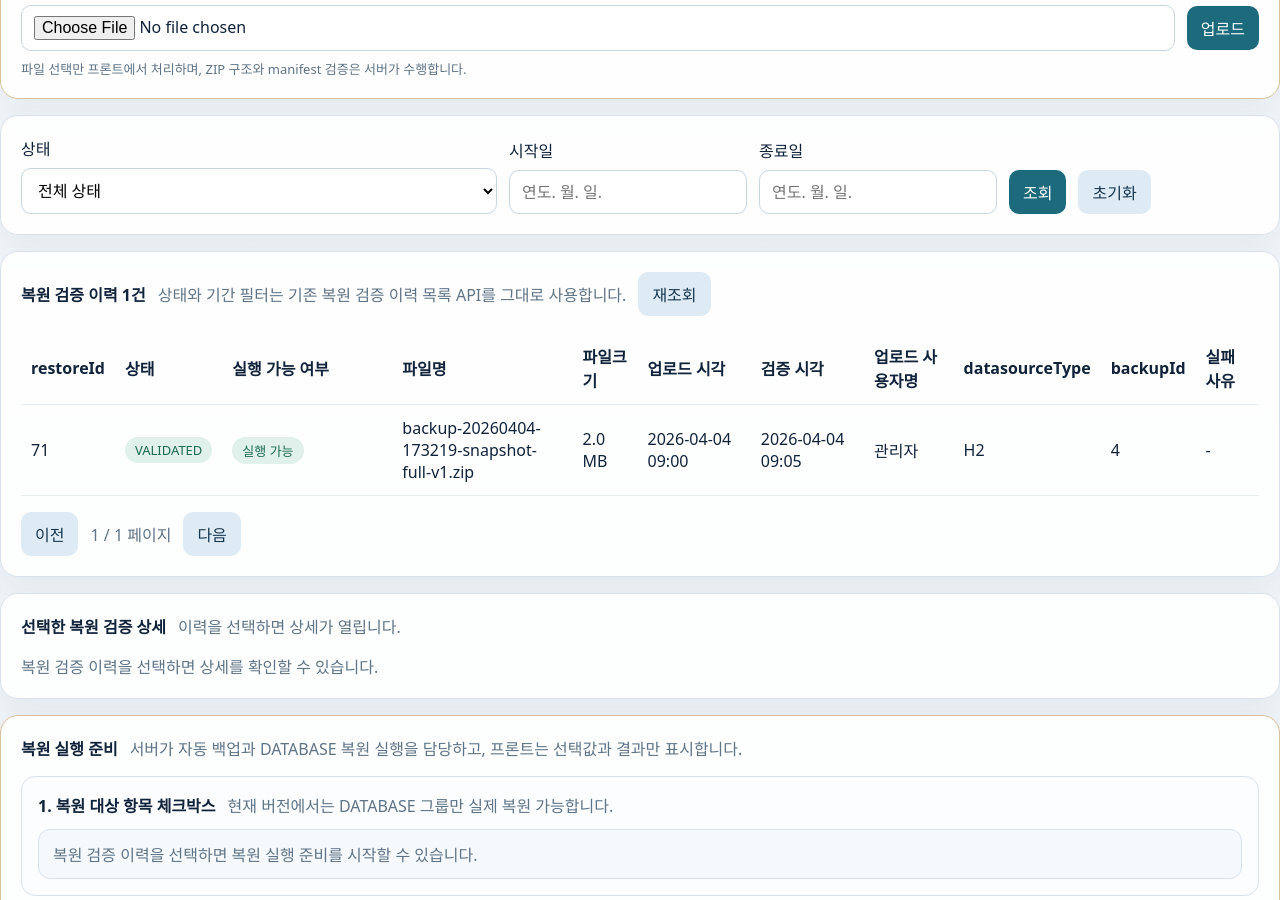
Test: admin backups › shows the server blocked reason when the uploaded restore zip is incompatible
(page scrolled)
Click the text "backup-20260404-173219-snapshot-full-v1.zip".
click(482, 450)  # box top-left (402, 417), bottom-right (562, 483)
(page scrolled)
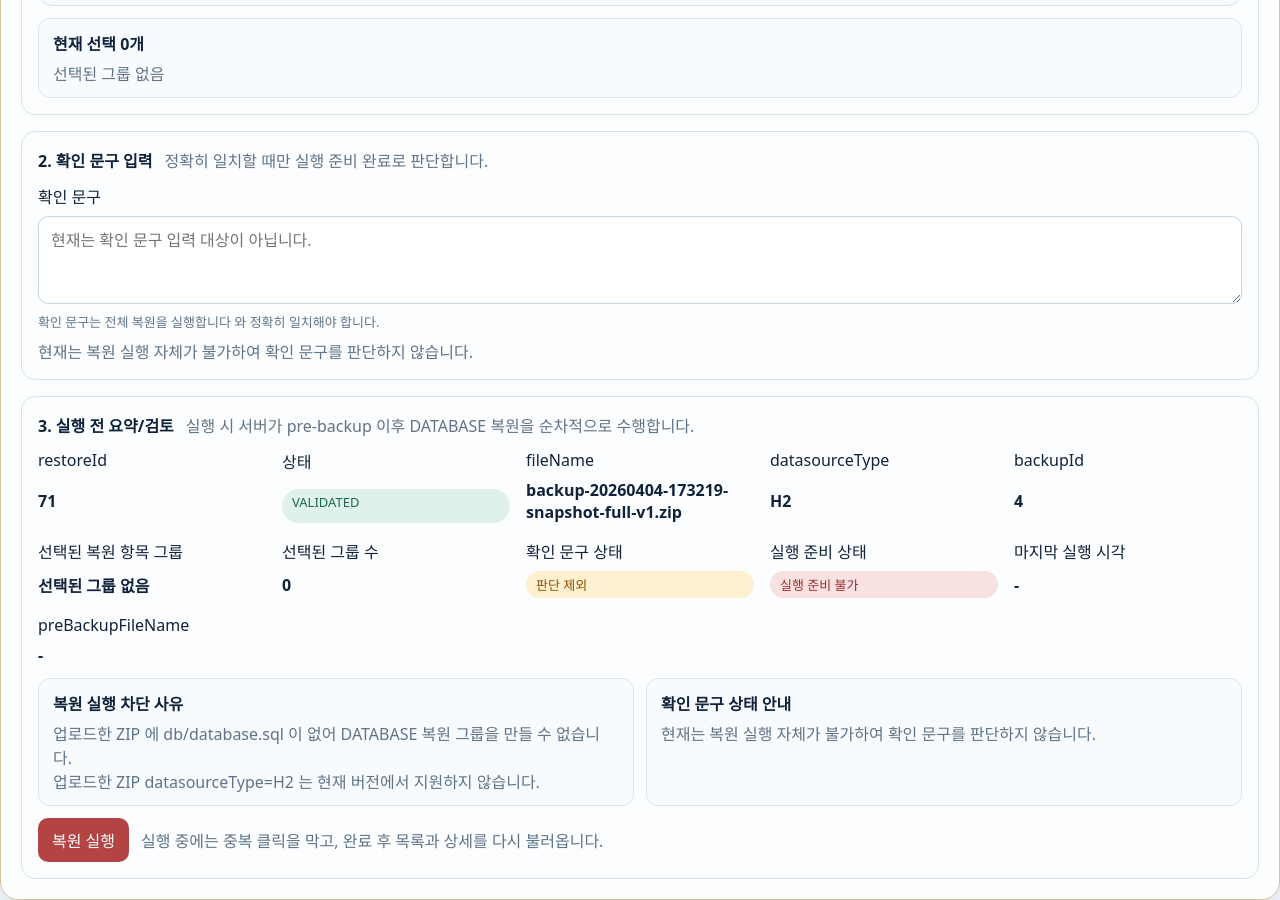
Check: the text "판단 제외" is shown, box top-left (526, 571), bottom-right (754, 598)
Check: the text "선택된 그룹 없음" below "현재 선택" is shown, box top-left (53, 63), bottom-right (164, 85)
